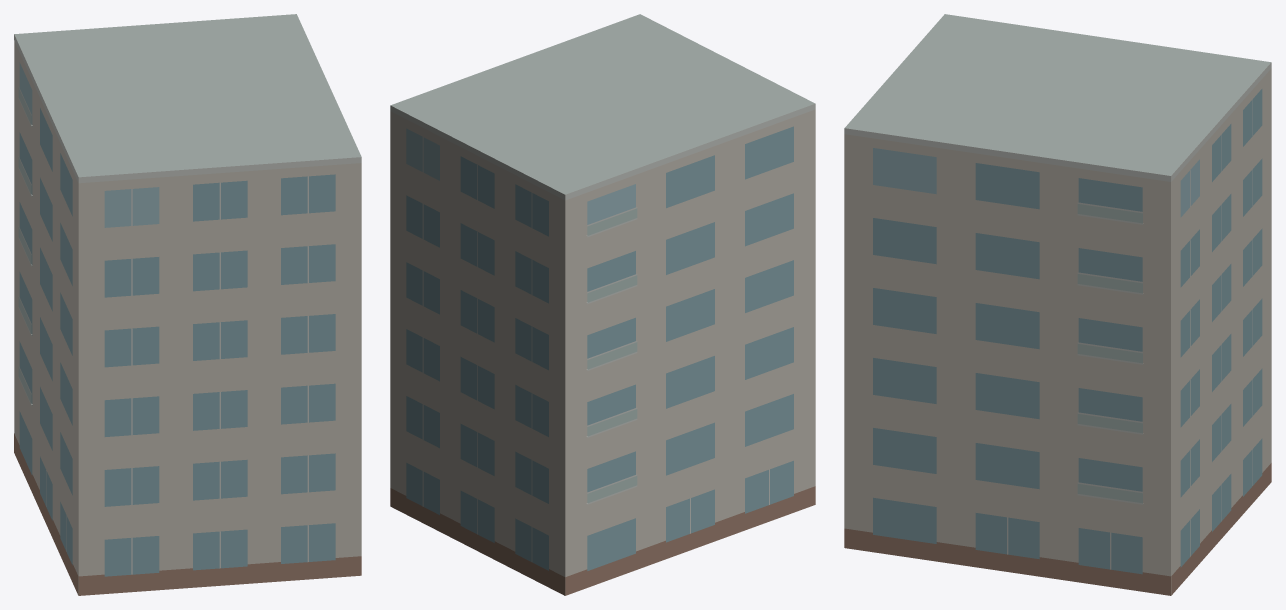
Rendered from survey-upis-32890145.glb.
The picture shows the model from 3 angles, left to right: view 1: azimuth 30°, elevation 25°; view 2: azimuth 150°, elevation 25°; view 3: azimuth 270°, elevation 25°; orthographic projection. The views are drawn at different scales.
Visible parts, largest first — view 1: survey-upis-32890145.tmp; view 2: survey-upis-32890145.tmp; view 3: survey-upis-32890145.tmp.
Part boxes in pixels (x1=…): survey-upis-32890145.tmp: x1=14, y1=14, x2=361, y2=595; survey-upis-32890145.tmp: x1=390, y1=14, x2=815, y2=595; survey-upis-32890145.tmp: x1=844, y1=14, x2=1271, y2=595.
Bounding box in the file's own units: 14.16 × 17.1 × 15.77.
